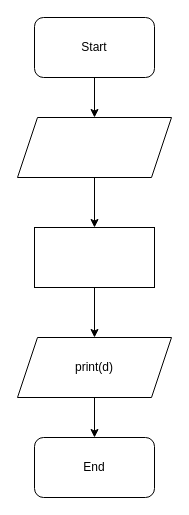
This 189x515 diagram has some shape labels left out. The shapes that lost their labels are listed below. From the top down, each one's box as (x1, y1, x2, y2) in pixels, then its label:
(16, 116, 172, 178): a, b, c = int(input())
(34, 226, 154, 288): d = a + b + c
